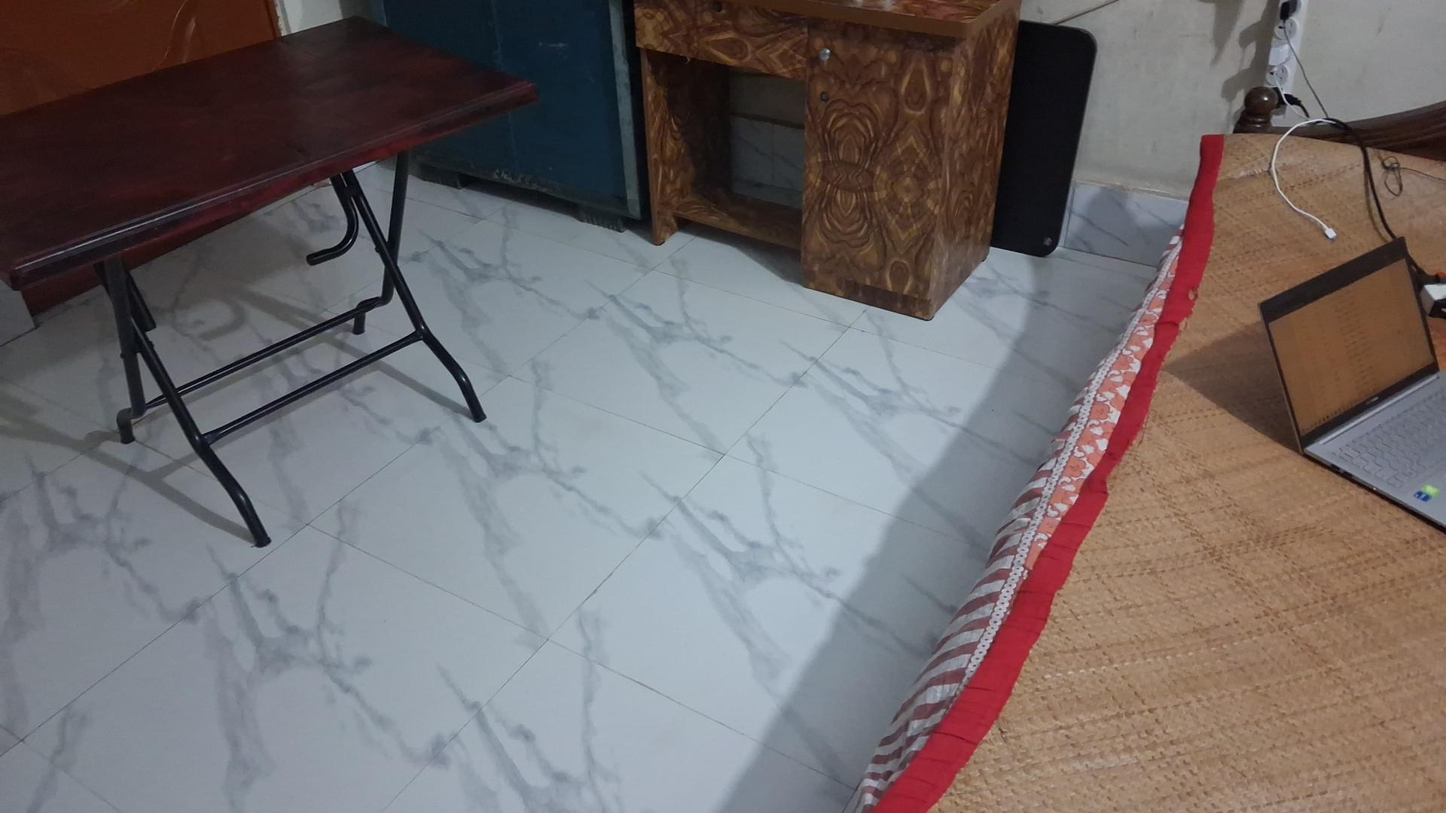Laptop: (1258, 237, 1445, 531)
Table: (0, 28, 530, 536)
